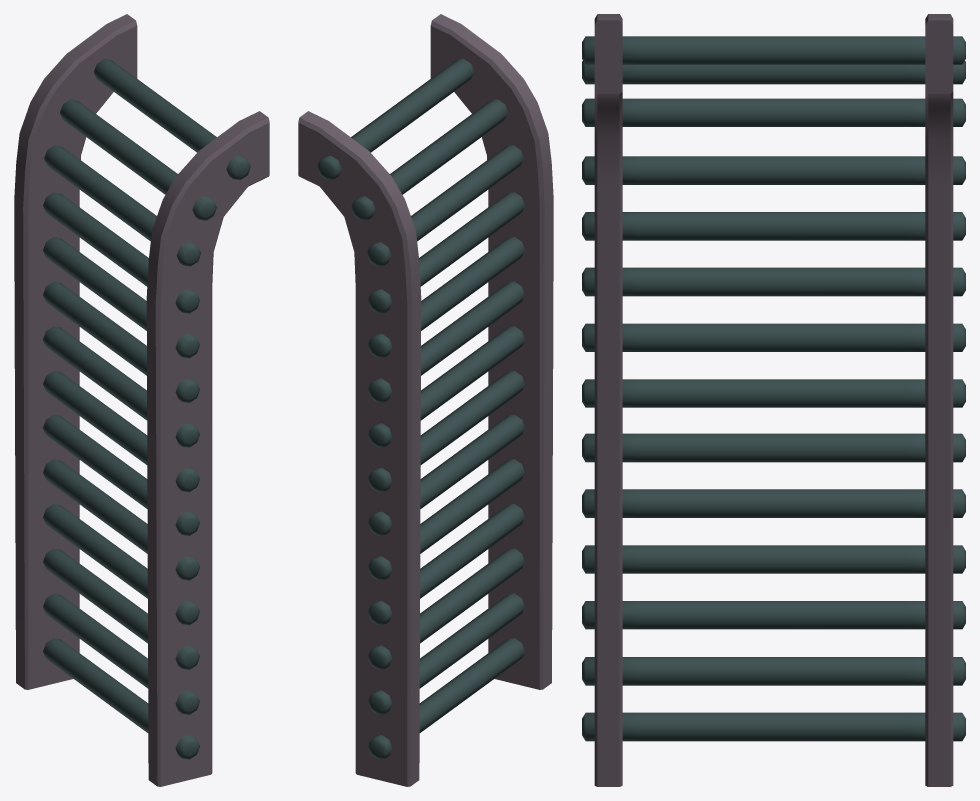
File: GB_128_ladder_var02.glb
3 views of the same model, side by side, from view 1: azimuth 30°, elevation 25°; view 2: azimuth 150°, elevation 25°; view 3: azimuth 270°, elevation 25° (orthographic). The views are drawn at different scales.
Visible parts, largest first — view 1: LadderVar02; view 2: LadderVar02; view 3: LadderVar02.
Part boxes in pixels (box(x1,y1,x2,y2)): LadderVar02: box(14, 14, 269, 786); LadderVar02: box(298, 14, 553, 786); LadderVar02: box(582, 14, 965, 786).
Size of the model in its own units: 0.4723 by 2.57 by 1.11.
